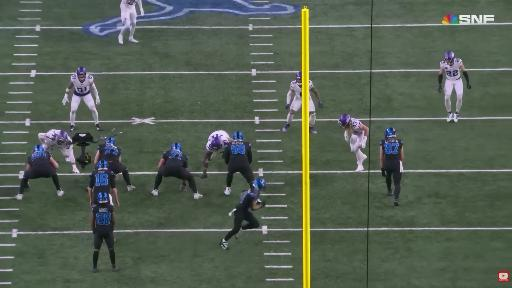Helmet: (56, 131, 71, 145), (254, 178, 266, 191), (384, 127, 396, 139), (339, 114, 350, 127), (212, 136, 222, 150), (77, 67, 86, 82), (97, 192, 109, 203), (444, 52, 454, 65), (171, 142, 182, 152), (98, 160, 107, 169), (233, 132, 243, 140), (105, 137, 114, 145), (296, 72, 301, 85), (34, 145, 43, 152)
Jersey: (89, 169, 115, 194), (380, 138, 403, 166), (92, 205, 114, 233), (225, 140, 251, 163), (45, 130, 72, 149), (236, 188, 258, 211), (71, 74, 93, 96), (206, 131, 229, 152), (440, 59, 462, 80), (162, 150, 187, 167), (98, 144, 121, 161), (27, 151, 52, 166), (291, 81, 303, 97), (123, 0, 141, 10), (352, 119, 363, 135)
Player: (220, 178, 266, 249), (152, 143, 202, 199), (15, 145, 64, 199), (63, 67, 101, 131), (439, 52, 471, 122), (91, 192, 119, 272), (94, 137, 135, 191), (224, 132, 254, 195), (380, 128, 403, 205), (39, 130, 79, 173), (339, 114, 369, 171), (201, 131, 232, 178), (88, 160, 119, 205), (119, 0, 144, 44), (308, 80, 322, 133)
